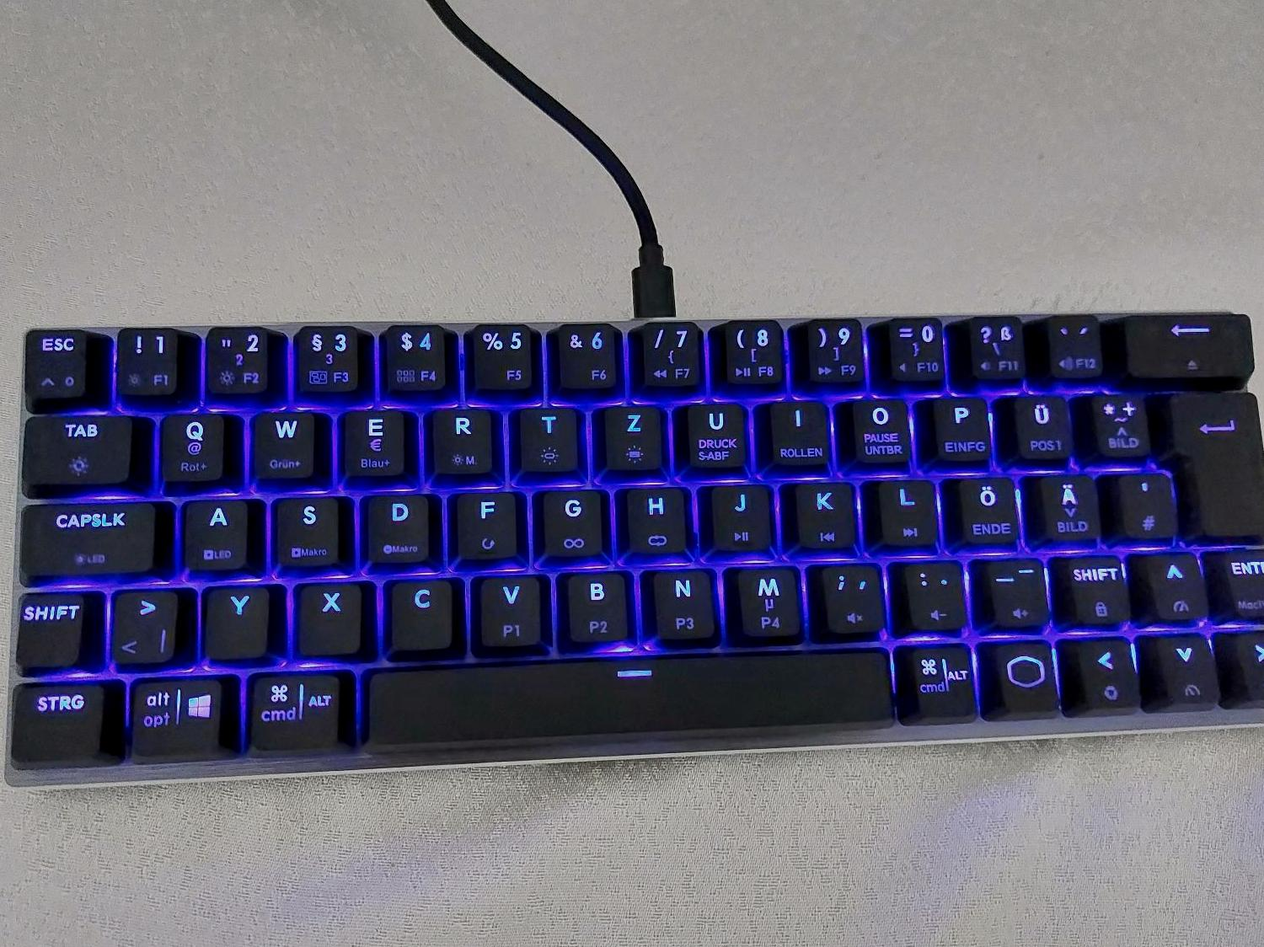0: (886, 314, 945, 384)
1: (115, 324, 181, 399)
2: (203, 322, 275, 397)
3: (292, 318, 362, 397)
4: (382, 324, 451, 396)
5: (469, 322, 538, 394)
6: (552, 319, 621, 392)
7: (637, 317, 701, 390)
8: (719, 315, 786, 388)
9: (806, 318, 865, 388)
a: (179, 491, 249, 570)
accent: (1043, 311, 1105, 378)
ae: (1037, 473, 1101, 543)
alt-left: (243, 667, 345, 750)
altgr-right: (907, 643, 981, 722)
b: (562, 566, 629, 643)
c: (387, 574, 454, 650)
caret: (23, 326, 88, 404)
comma: (817, 558, 884, 635)
d: (362, 487, 432, 563)
del: (1122, 309, 1256, 379)
e: (340, 404, 407, 476)
enter: (1163, 389, 1264, 537)
f: (453, 486, 517, 559)
g: (539, 484, 603, 556)
h: (621, 482, 687, 552)
hash: (1114, 468, 1177, 538)
i: (767, 399, 829, 472)
j: (708, 479, 771, 549)
k: (794, 479, 857, 550)
keyboard: (1, 307, 1264, 793)
l: (875, 479, 938, 550)
less: (108, 584, 178, 664)
m: (731, 559, 803, 639)
minus: (984, 555, 1050, 629)
n: (647, 562, 717, 641)
o: (849, 396, 911, 469)
oe: (956, 474, 1019, 544)
p: (929, 390, 992, 463)
plus: (1088, 392, 1151, 463)
point: (900, 555, 966, 629)
q: (156, 408, 227, 482)
r: (429, 402, 495, 474)
s: (271, 496, 342, 572)
shift-left: (13, 587, 86, 668)
shift-lock: (20, 497, 158, 576)
shift-right: (1063, 556, 1128, 630)
space: (365, 648, 898, 740)
ss: (966, 312, 1026, 381)
strg-left: (8, 681, 104, 762)
t: (517, 402, 579, 471)
tab: (21, 411, 132, 488)
u: (685, 402, 747, 475)
ue: (1010, 393, 1073, 463)
v: (473, 569, 544, 648)
w: (249, 405, 318, 479)
x: (294, 576, 364, 654)
y: (202, 581, 270, 658)
z: (601, 399, 663, 471)
